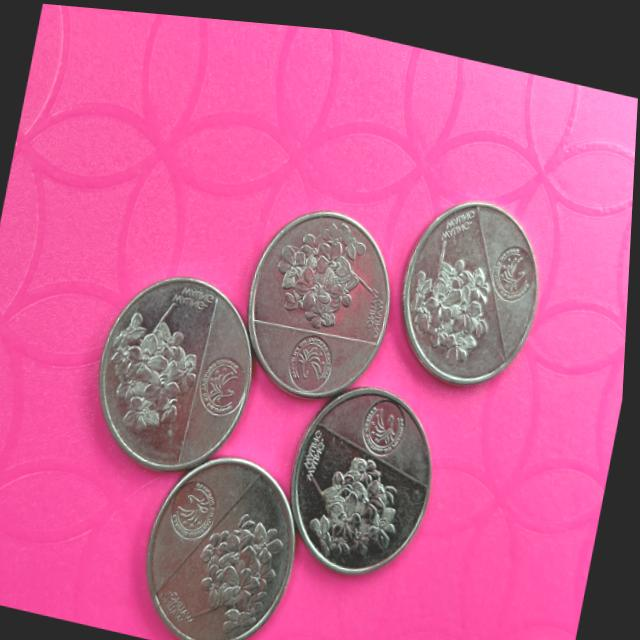1_New_Back: (403, 224, 507, 363), (265, 196, 375, 326), (297, 437, 408, 562), (190, 498, 292, 625)
